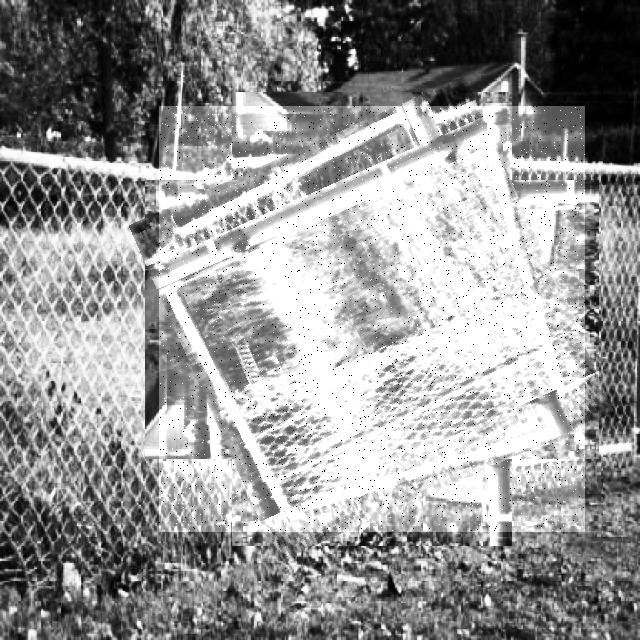anomaly-fence: (159, 106, 585, 532)
